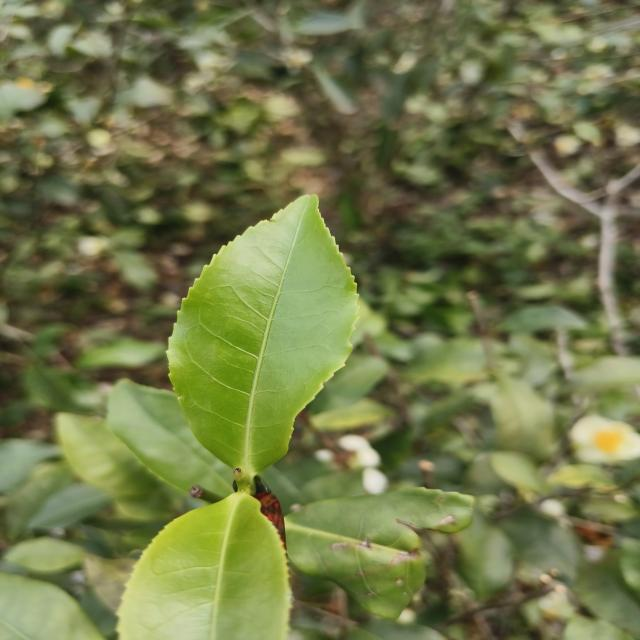Leaf: (168, 195, 358, 475), (117, 492, 291, 640), (286, 488, 474, 619), (106, 379, 232, 497), (55, 413, 158, 501), (0, 572, 104, 640), (488, 376, 554, 460), (502, 512, 580, 580), (455, 510, 513, 599), (310, 354, 389, 411), (26, 483, 112, 528), (0, 439, 59, 493), (4, 536, 86, 573), (416, 338, 486, 378), (76, 338, 165, 368), (310, 398, 393, 430), (23, 364, 78, 411), (502, 305, 586, 333), (547, 464, 614, 491)
